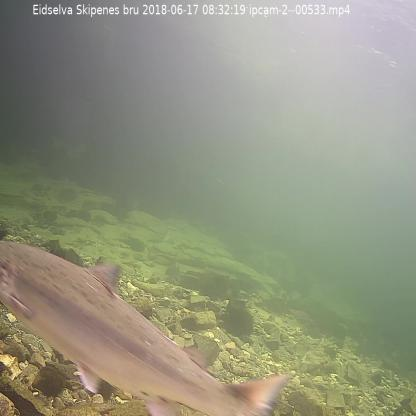salmon: (0, 236, 298, 416)
